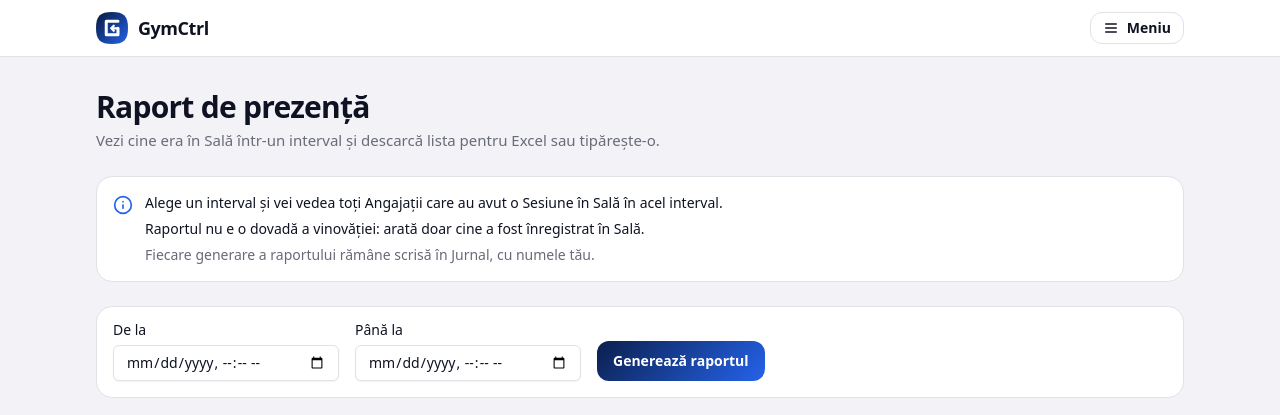
Scenario: ecranul Rapoarte › la interval invalid arată eroarea serverului și păstrează valorile introduse
The image size is (1280, 415).
Type "2026-01-05T12:00" into the field labelled "De la" at coordinates (226, 362), box [113,344,339,380]
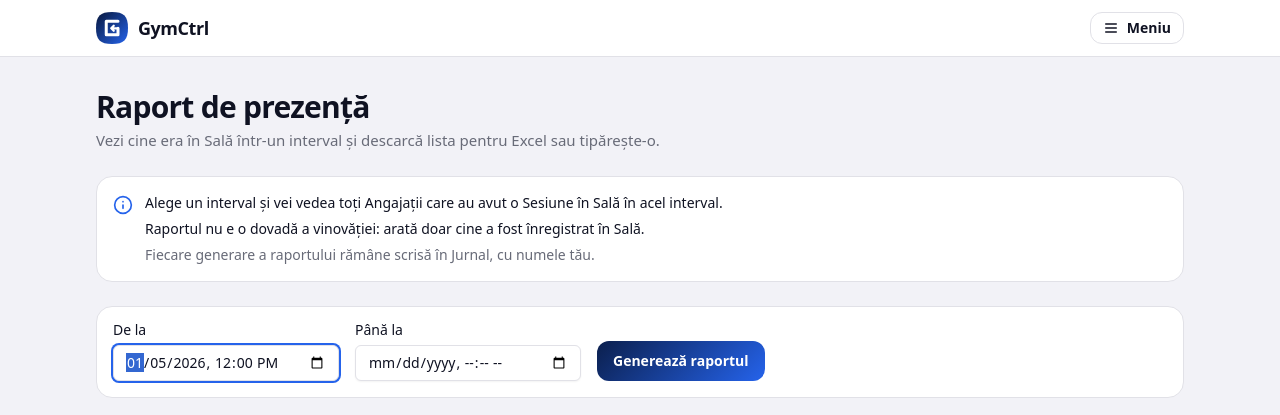
Type "2026-01-05T10:00" into the field labelled "Până la" at coordinates (468, 362), box [355,344,581,380]
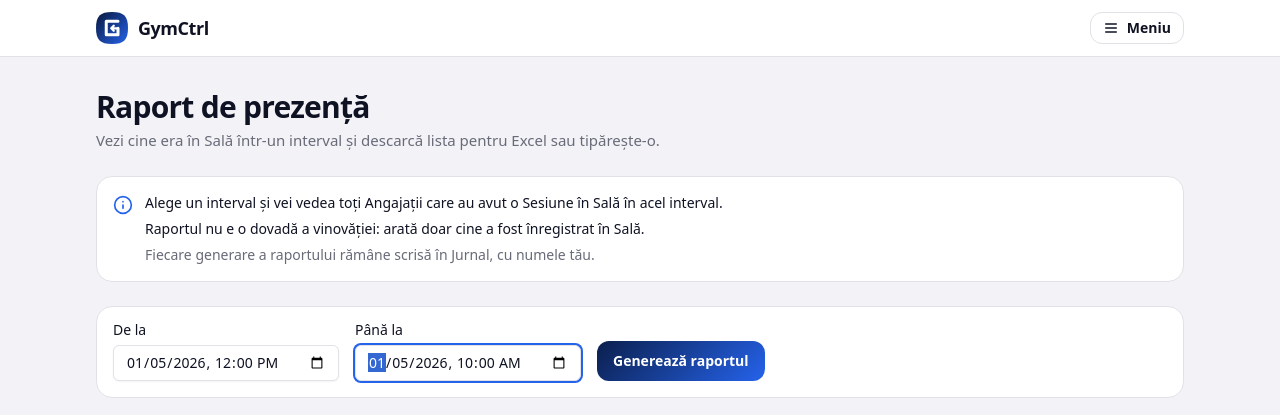
Click the button "Generează raportul" at coordinates (681, 360), box [597,340,765,380]
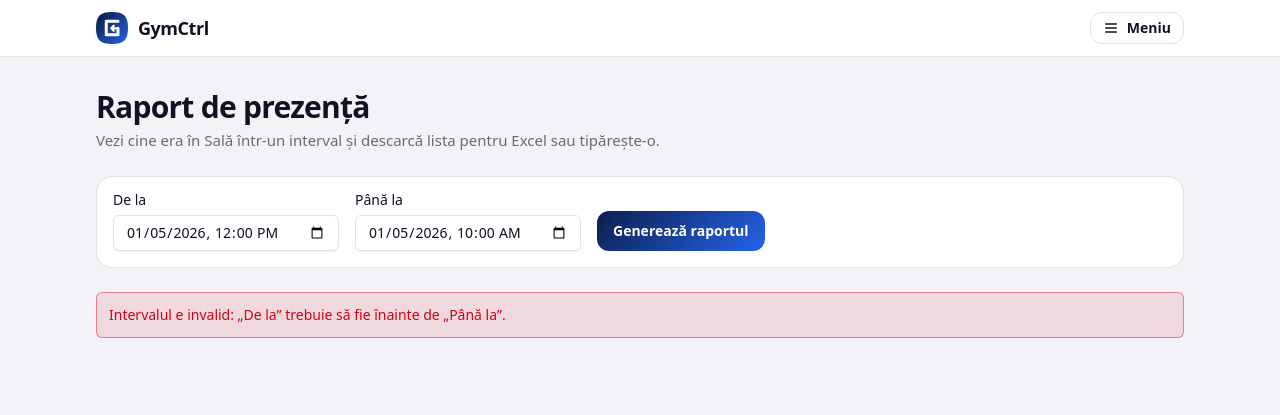
Expected: the message reads "Intervalul e invalid: „De la” trebuie să fie înainte de „Până la”.", [109,304,506,324]
